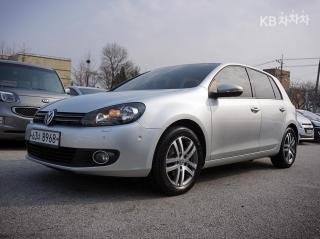3: (35, 131, 38, 141)
6: (49, 133, 53, 143), (31, 131, 35, 140)
8: (41, 132, 46, 142), (52, 133, 56, 144)
9: (45, 133, 49, 142)
너: (36, 132, 41, 141)
